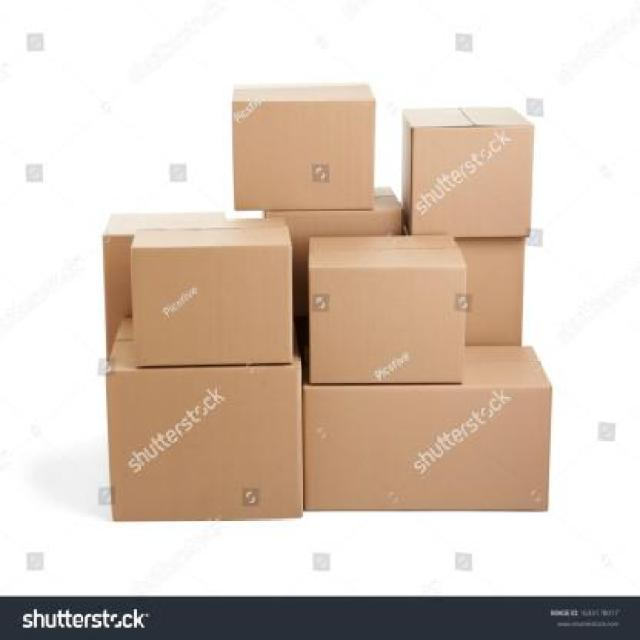BoxFace: (304, 383, 552, 512), (107, 363, 304, 520), (130, 244, 290, 364), (310, 267, 464, 384), (232, 98, 376, 212), (412, 123, 534, 240)
